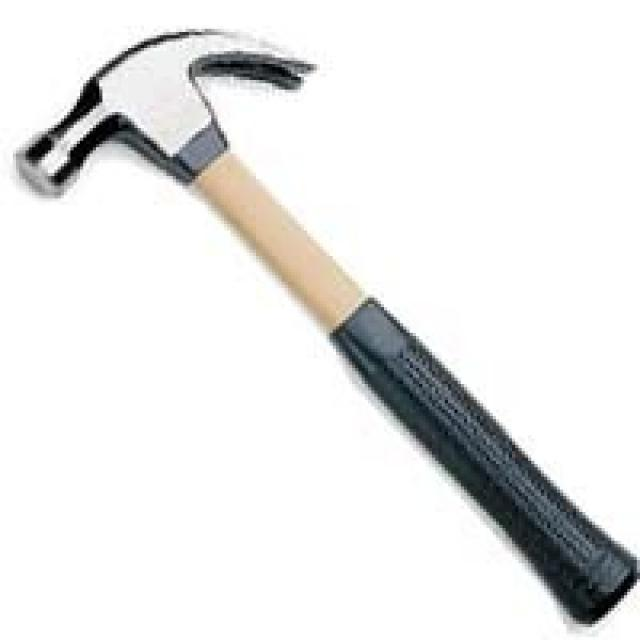hammer: (5, 19, 640, 632)
